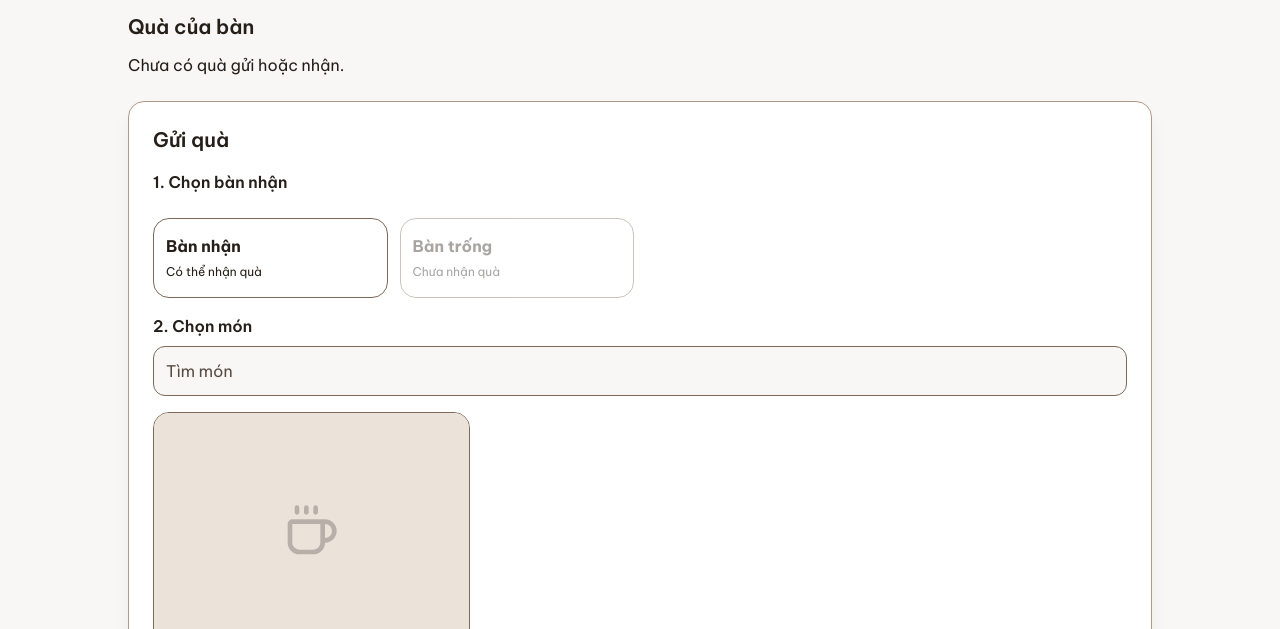
anonymous gift UI › recovers an uncertain send through reload and reuses the exact payload/key
The width and height of the screenshot is (1280, 629).
Later steps or results of the test are not shown.
Step 1. Click the button "Bàn nhận Có thể nhận quà" → (270, 258), box [153,218,388,298]
(page scrolled)
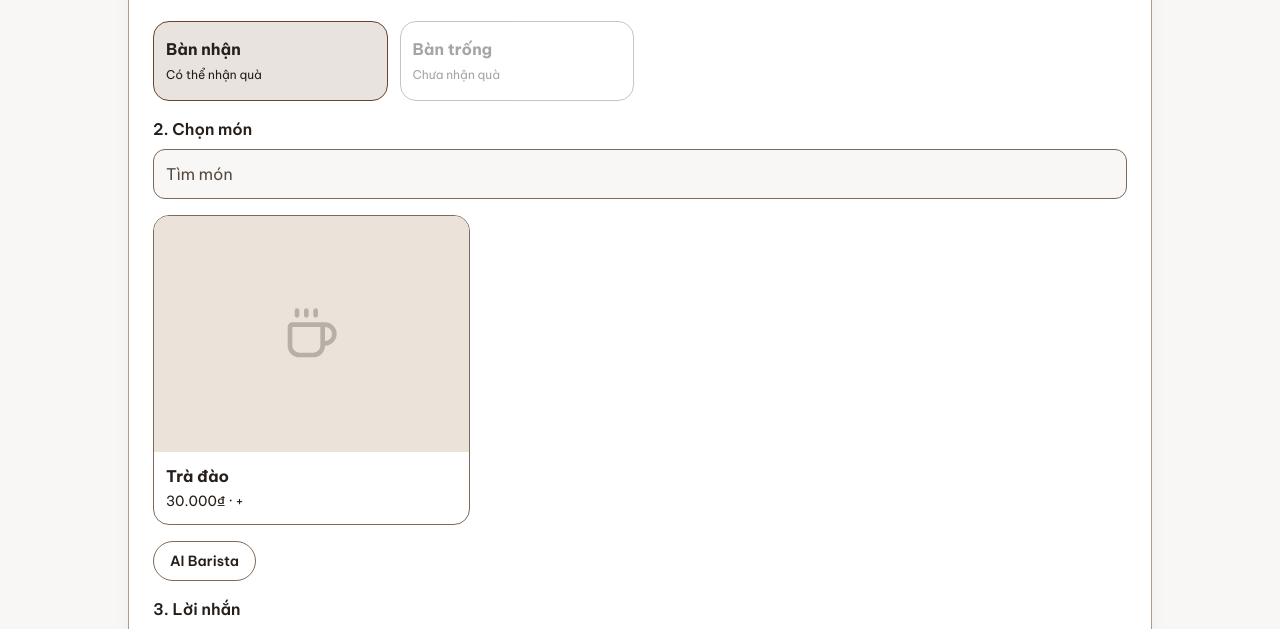
Step 2. Click the button "Trà đào 30.000₫ · +" → (311, 370), box [153,215,470,525]
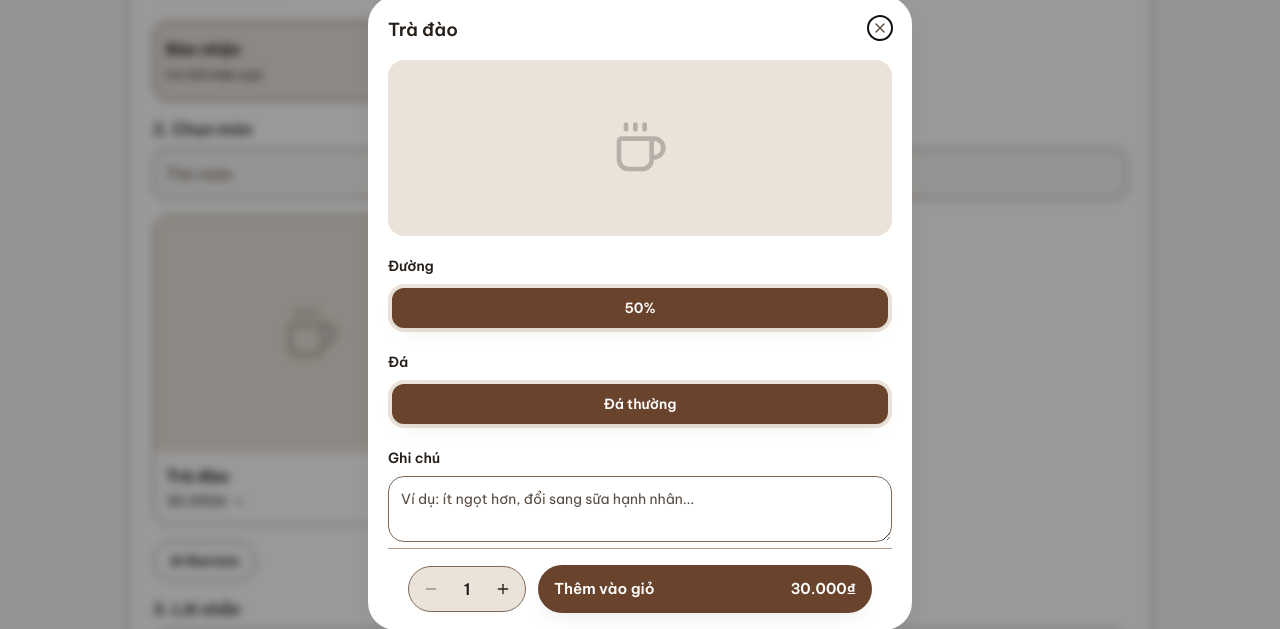
Step 3. Click the button "Thêm vào giỏ 30.000₫" → (604, 588), box [538,565,872,613]
(page scrolled)
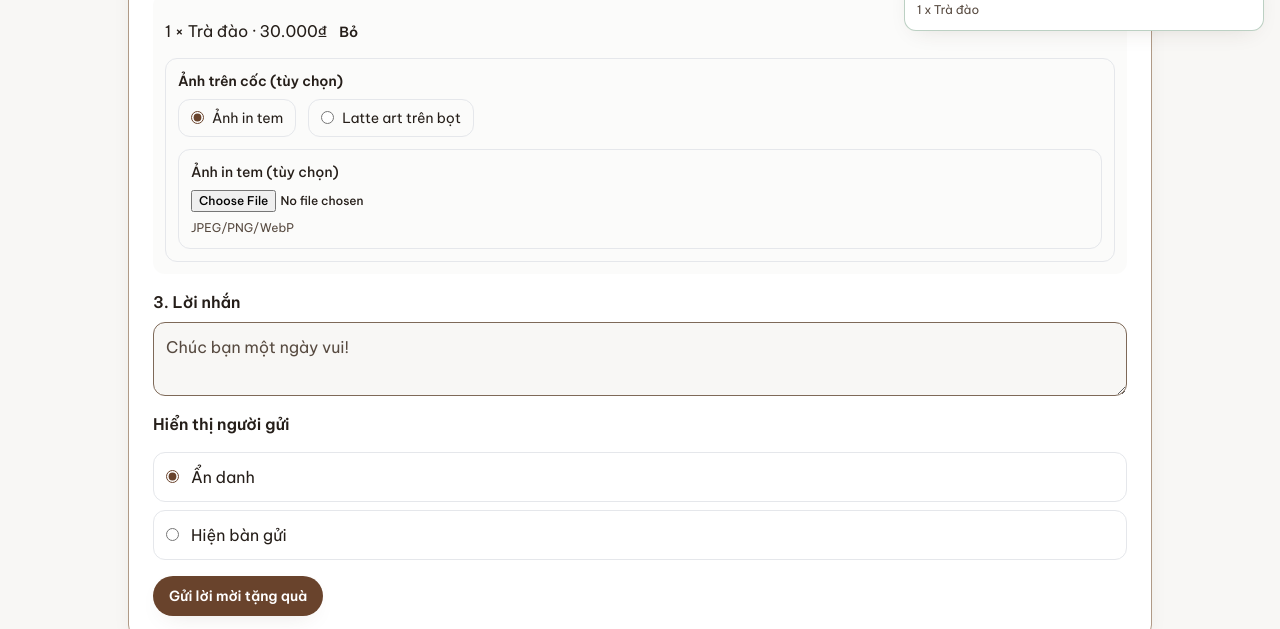
Step 4. Click the radio button labelled "Hiện bàn gửi" → (172, 535), box [166,528,179,542]
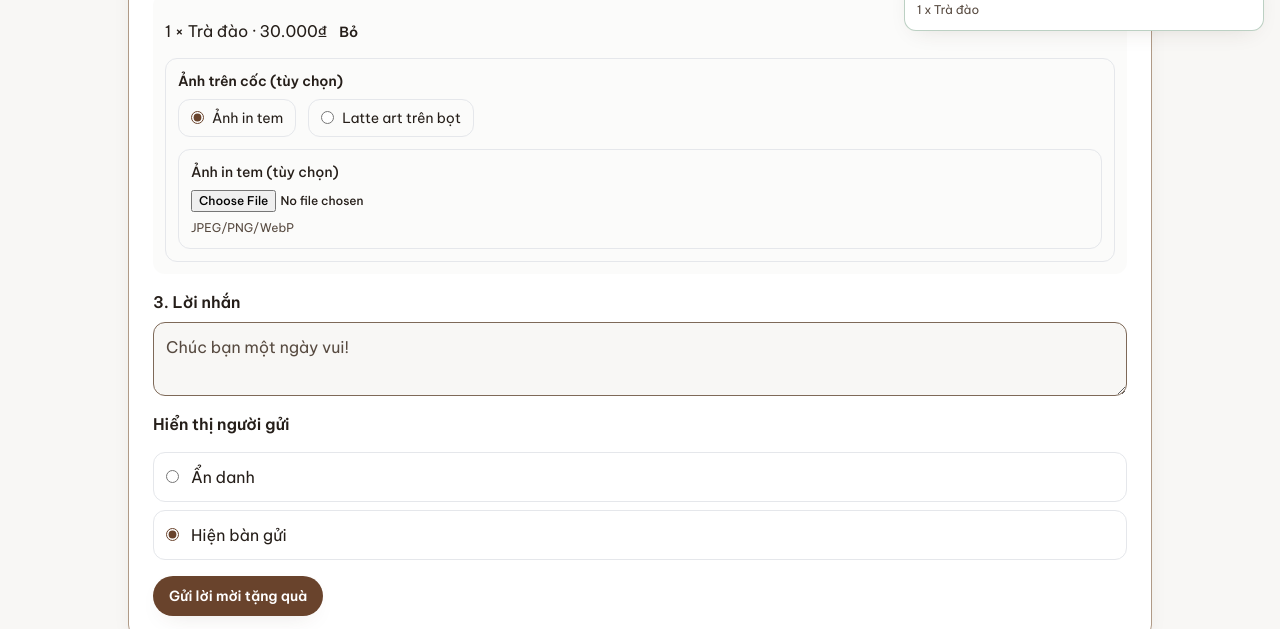
Step 5. Click the button "Gửi lời mời tặng quà" → (238, 596), box [153,576,323,616]
(page scrolled)
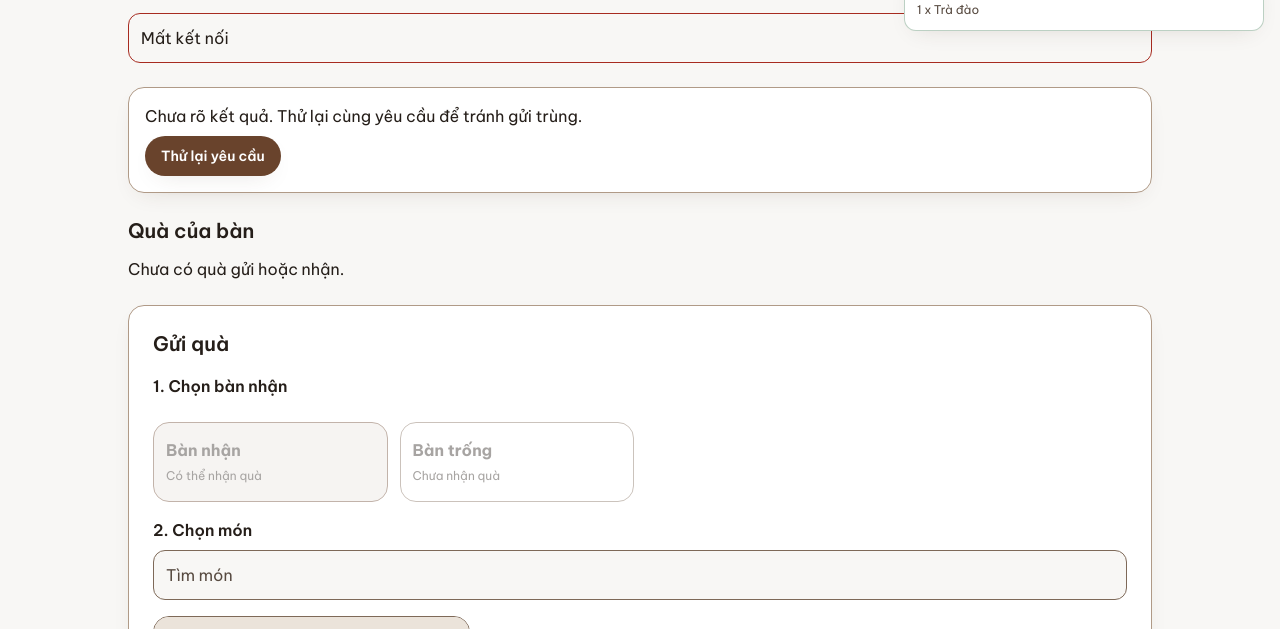
Expected: the text "Chưa rõ kết quả. Thử lại cùng yêu cầu để tránh gửi trùng." is shown, [145,106,582,126]
